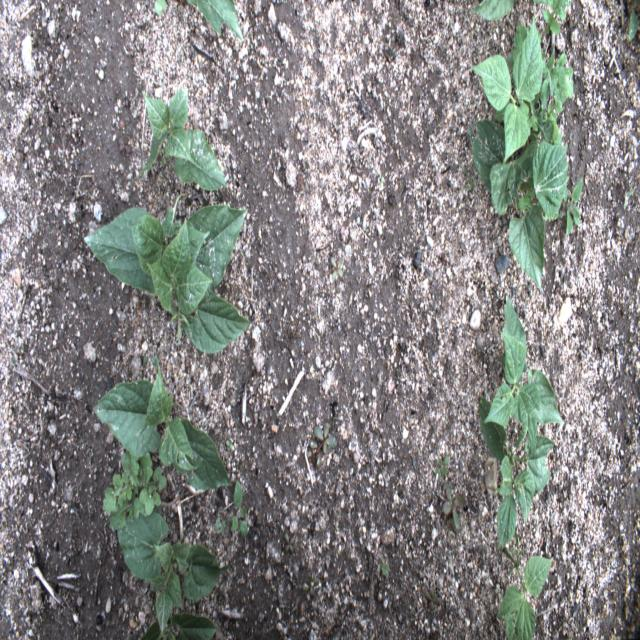crop: (89, 190, 252, 356), (94, 367, 231, 490), (469, 125, 568, 292), (117, 512, 230, 628), (486, 290, 564, 448), (478, 398, 556, 544), (472, 18, 544, 158), (136, 90, 228, 189), (494, 512, 555, 639), (183, 0, 244, 42), (141, 614, 217, 638), (469, 0, 516, 23)
weed: (102, 452, 167, 528), (531, 54, 574, 142), (535, 1, 572, 40), (310, 422, 336, 469), (565, 177, 584, 239), (456, 162, 483, 201), (230, 479, 248, 536), (444, 482, 466, 528), (627, 2, 639, 42), (302, 573, 319, 598), (434, 455, 450, 478), (140, 352, 160, 370), (375, 557, 390, 580), (330, 256, 343, 282), (426, 590, 441, 612), (214, 514, 228, 537), (622, 187, 634, 211), (152, 0, 167, 18), (284, 533, 294, 554), (306, 448, 315, 466), (225, 438, 234, 452), (443, 519, 450, 536), (379, 173, 385, 189)
